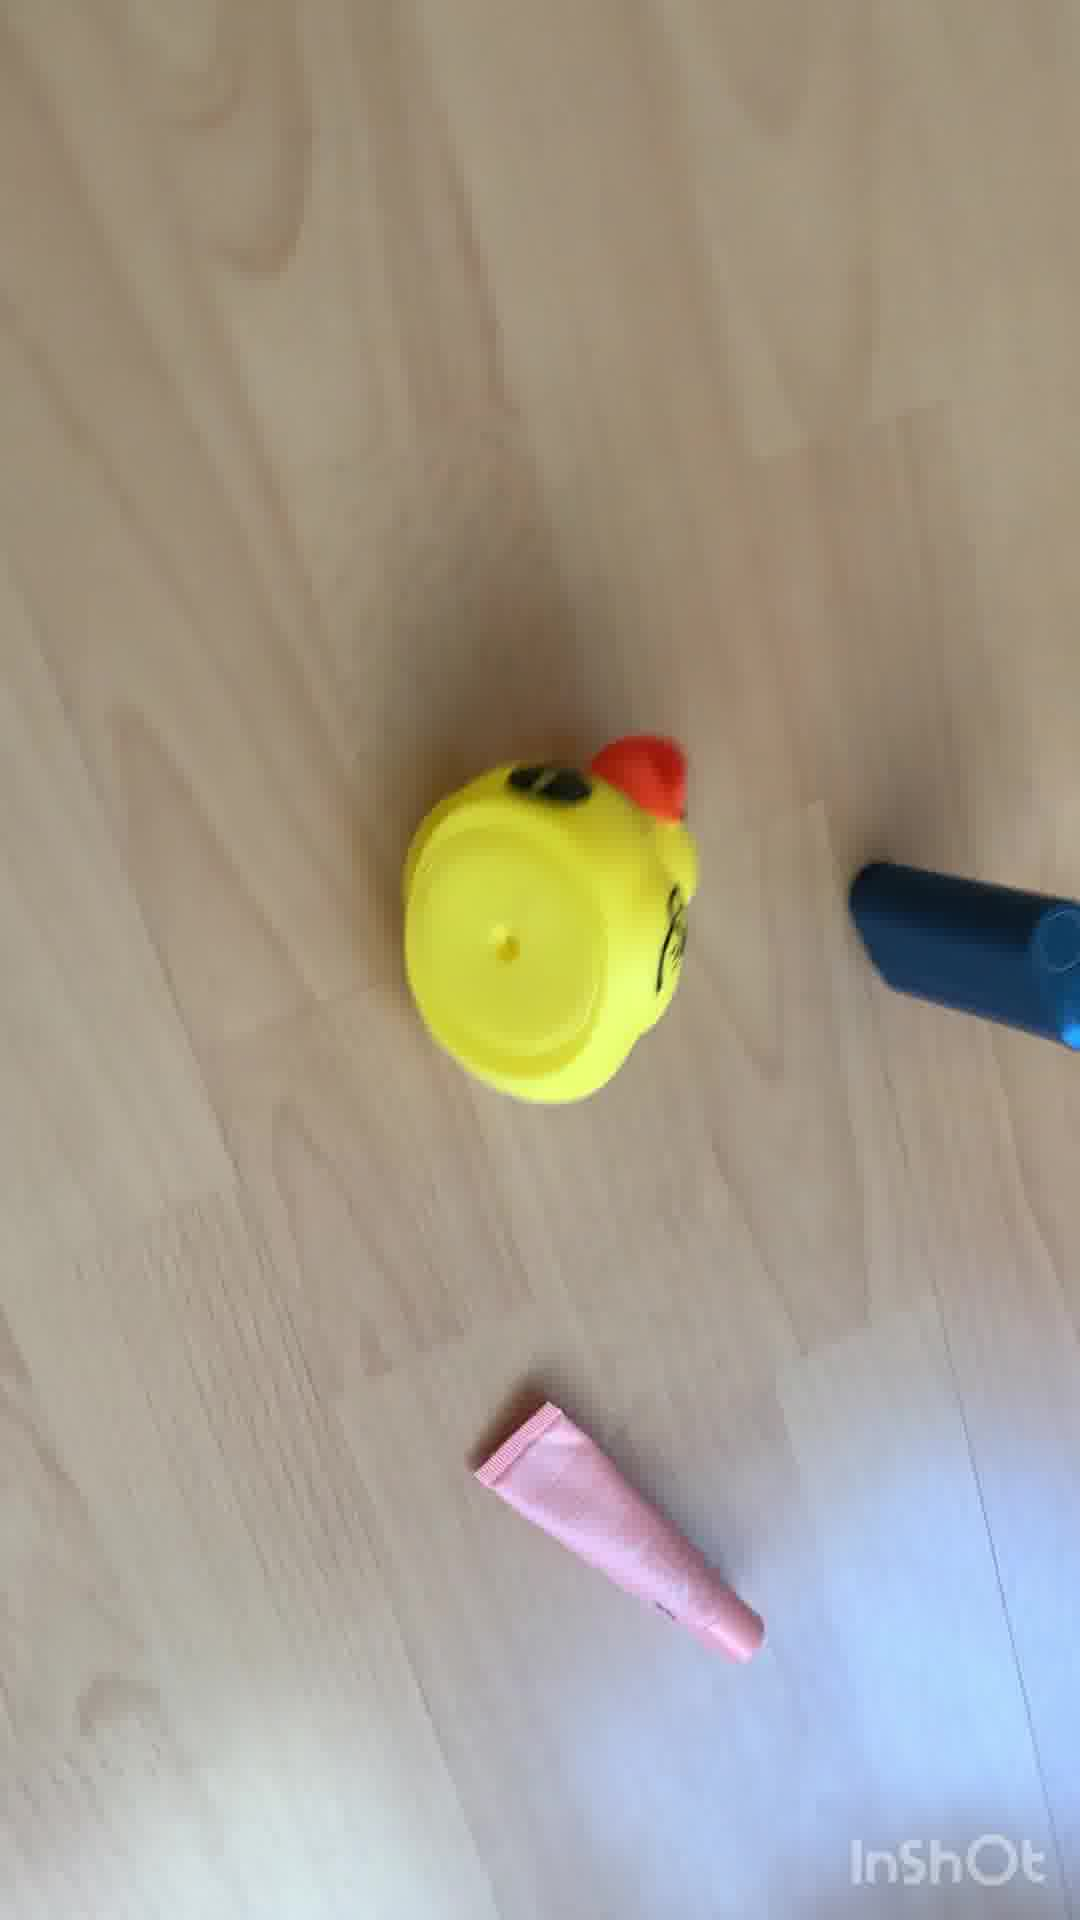duck: (392, 716, 708, 1102)
glo: (856, 855, 1080, 1054)
lip balm: (467, 1395, 777, 1669)
